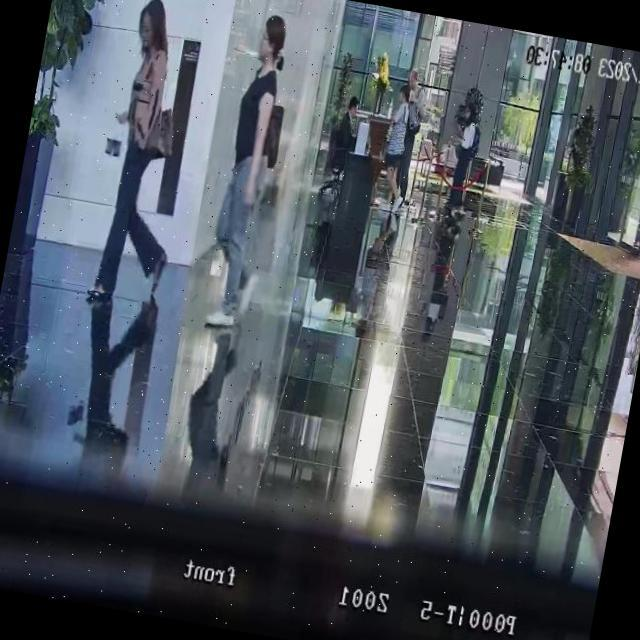person: (82, 0, 211, 315), (200, 10, 294, 329), (373, 82, 422, 212), (386, 68, 429, 205), (439, 104, 482, 210), (328, 94, 362, 178)
